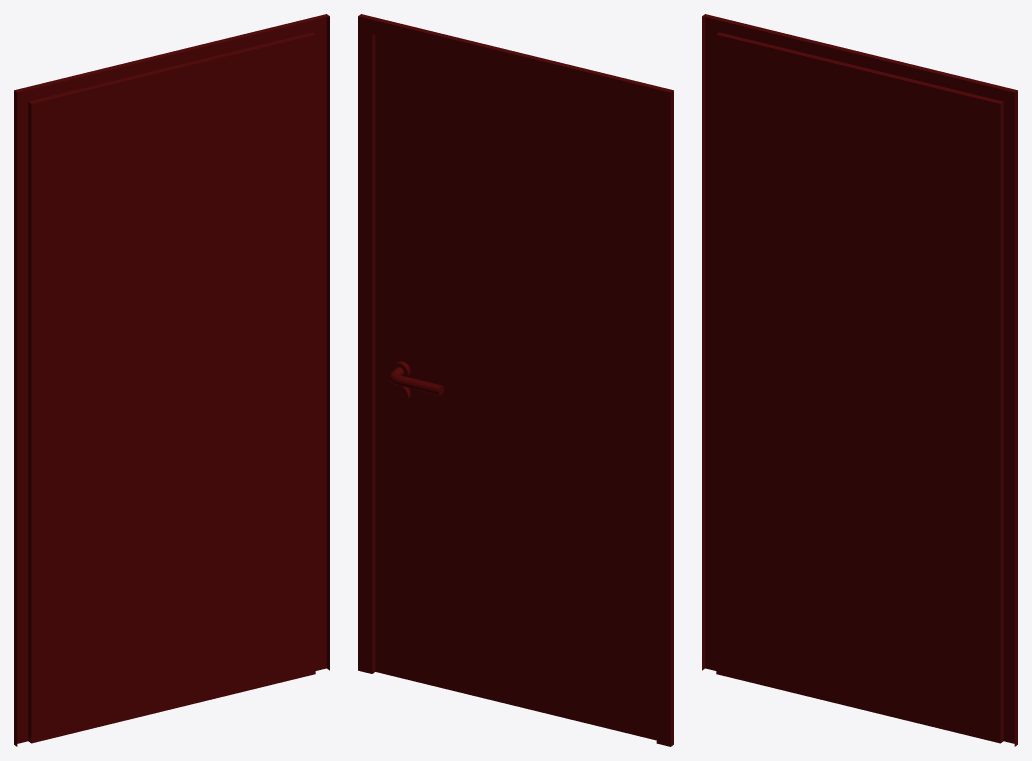
File: Puerta_LowPoly_v5.fbx
3 renders of one model, left to right at view 1: azimuth 30°, elevation 25°; view 2: azimuth 150°, elevation 25°; view 3: azimuth 330°, elevation 25°, orthographic.
Visible parts, largest first — view 1: PuertaLow, pCube30; view 2: PuertaLow, pCube30, PomoLow2; view 3: PuertaLow, pCube30.
Part boxes in pixels (<box>): PuertaLow: <box>31,34,315,743</box>; pCube30: <box>14,14,329,746</box>; PuertaLow: <box>375,35,656,740</box>; pCube30: <box>358,14,673,746</box>; PomoLow2: <box>389,361,444,395</box>; PuertaLow: <box>716,34,1000,743</box>; pCube30: <box>702,14,1017,746</box>.
Size of the model in its own units: 1.1 by 2.2 by 0.0858.
